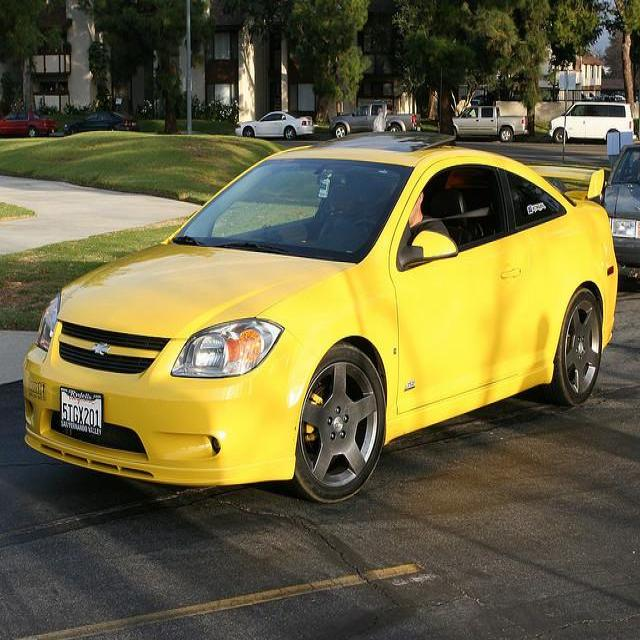Car: (16, 128, 617, 509)
